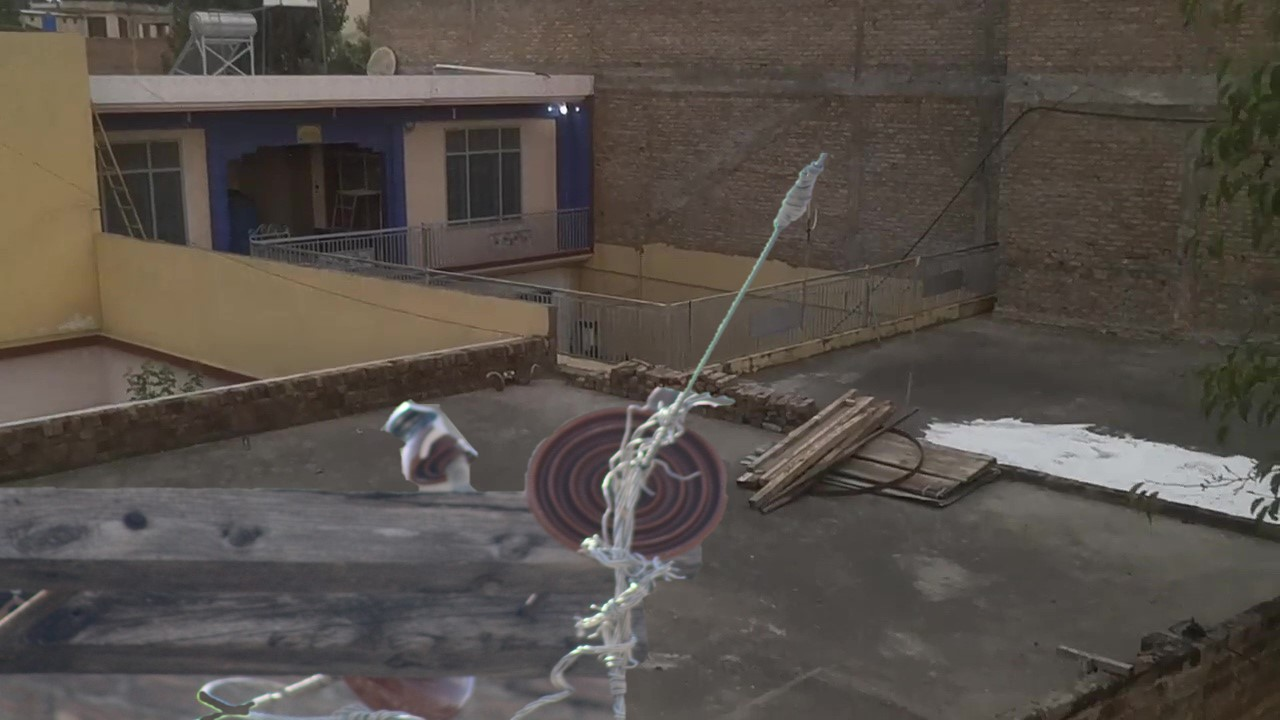defect_pin: (379, 391, 486, 505)
insulator_disc: (520, 402, 737, 575)
